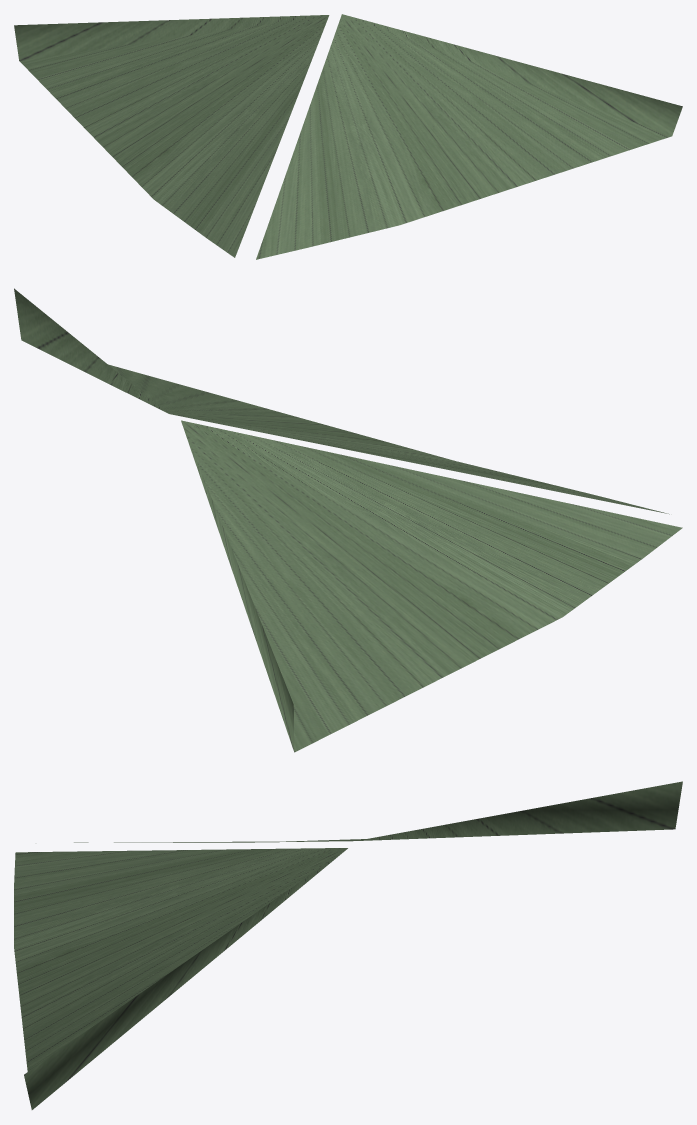
Rendered from SM_Roofplate03B.fbx.
3 renders of one model, top to bottom at view 1: azimuth 30°, elevation 25°; view 2: azimuth 150°, elevation 25°; view 3: azimuth 270°, elevation 25°, orthographic. The views are drawn at different scales.
Visible parts, largest first — view 1: SM_Roofplate03B; view 2: SM_Roofplate03B; view 3: SM_Roofplate03B.
Part boxes in pixels (box(x1,y1,x2,y2)): SM_Roofplate03B: box(14, 14, 682, 259); SM_Roofplate03B: box(14, 288, 682, 752); SM_Roofplate03B: box(14, 781, 682, 1109).
Size of the model in its own units: 476 by 456 by 107.
1 material, 1 textured.
